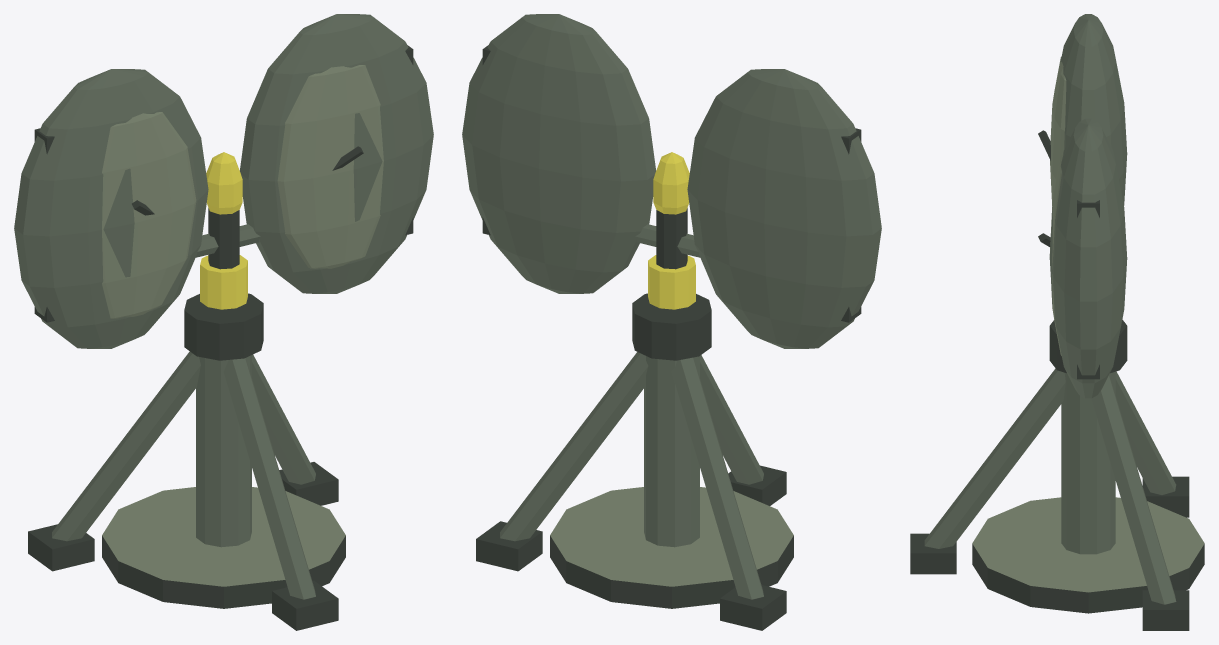
Rendered from Building_PsychicEmanator.glb.
3 renders of one model, left to right at view 1: azimuth 30°, elevation 25°; view 2: azimuth 150°, elevation 25°; view 3: azimuth 270°, elevation 25°, orthographic. The views are drawn at different scales.
Parts seen in each view (by area): view 1: PsychicEmanator; view 2: PsychicEmanator; view 3: PsychicEmanator.
Part boxes in pixels (x1=…): PsychicEmanator: x1=14, y1=14, x2=433, y2=630; PsychicEmanator: x1=462, y1=14, x2=881, y2=630; PsychicEmanator: x1=910, y1=14, x2=1204, y2=630.
Bounding box in the file's own units: 1.17 × 1.4 × 0.76.
1 material, 1 textured.
